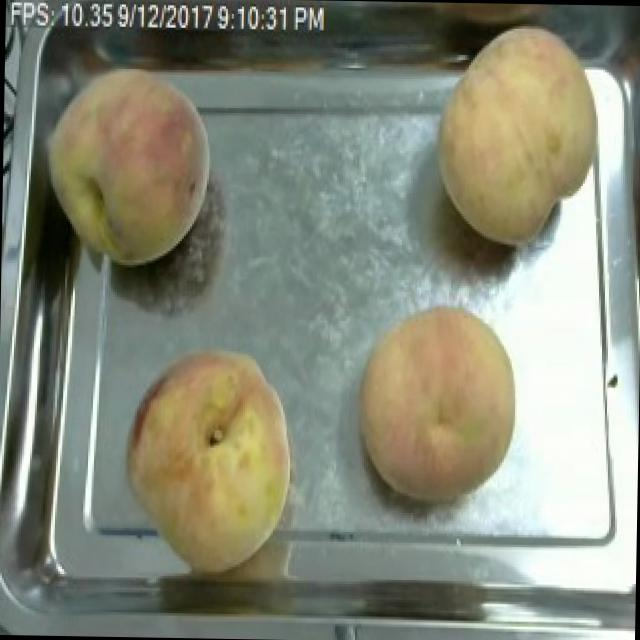Fruit: (114, 334, 304, 580), (426, 14, 618, 253), (29, 57, 222, 278), (346, 296, 528, 504)
